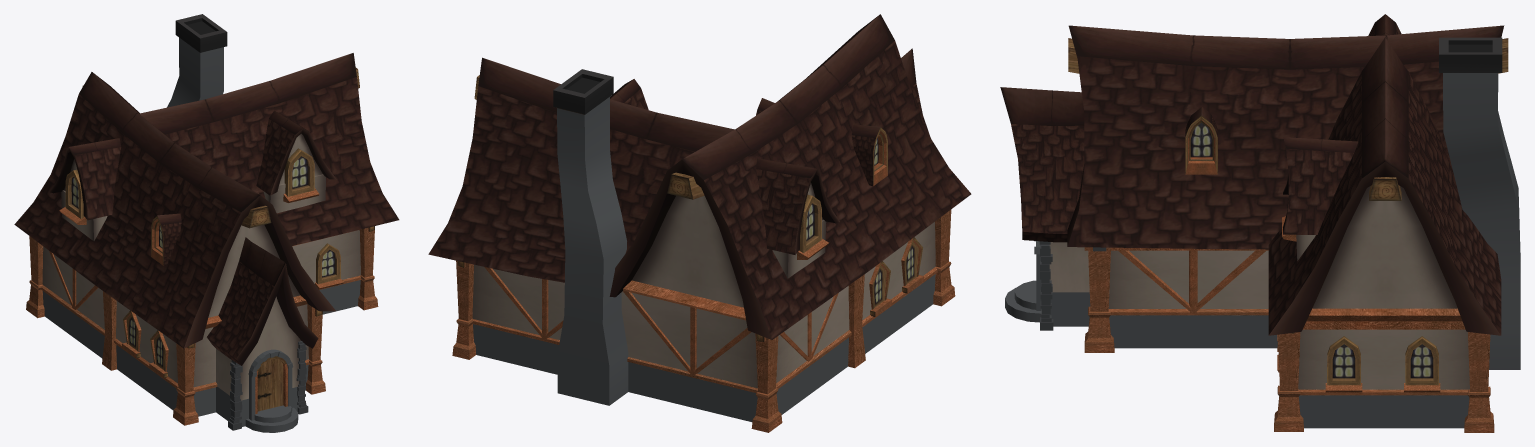
Rendered from fanasty_mod_village_building03.fbx.
3 views of the same model, side by side, from view 1: azimuth 30°, elevation 25°; view 2: azimuth 150°, elevation 25°; view 3: azimuth 270°, elevation 25° (orthographic). The views are drawn at different scales.
Visible parts, largest first — view 1: village_building_03; view 2: village_building_03; view 3: village_building_03.
Boxes of the visible parts, <box> form: village_building_03: <box>14,14,399,432</box>; village_building_03: <box>428,14,971,432</box>; village_building_03: <box>1000,14,1520,432</box>.
Size of the model in its own units: 12.51 by 10.17 by 14.86.
